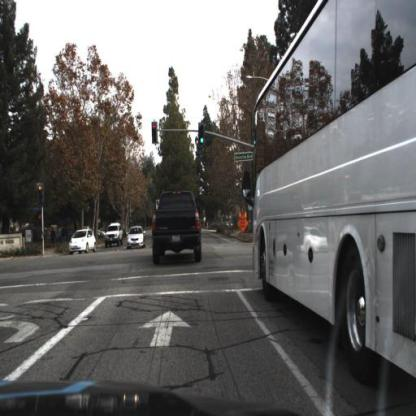car: (150, 187, 205, 267), (69, 227, 99, 257), (103, 223, 126, 250), (126, 225, 148, 251)
pedestrian: (51, 230, 56, 249)
trafficLight: (152, 120, 159, 144)
trafficLight-Green: (200, 124, 208, 149)
trafficLight-RedLeft: (37, 182, 45, 208)
truck: (240, 3, 416, 392)
